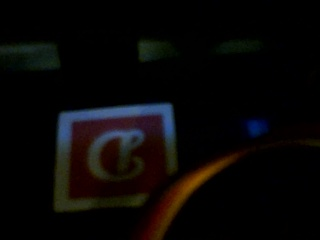D: (67, 113, 172, 199)
